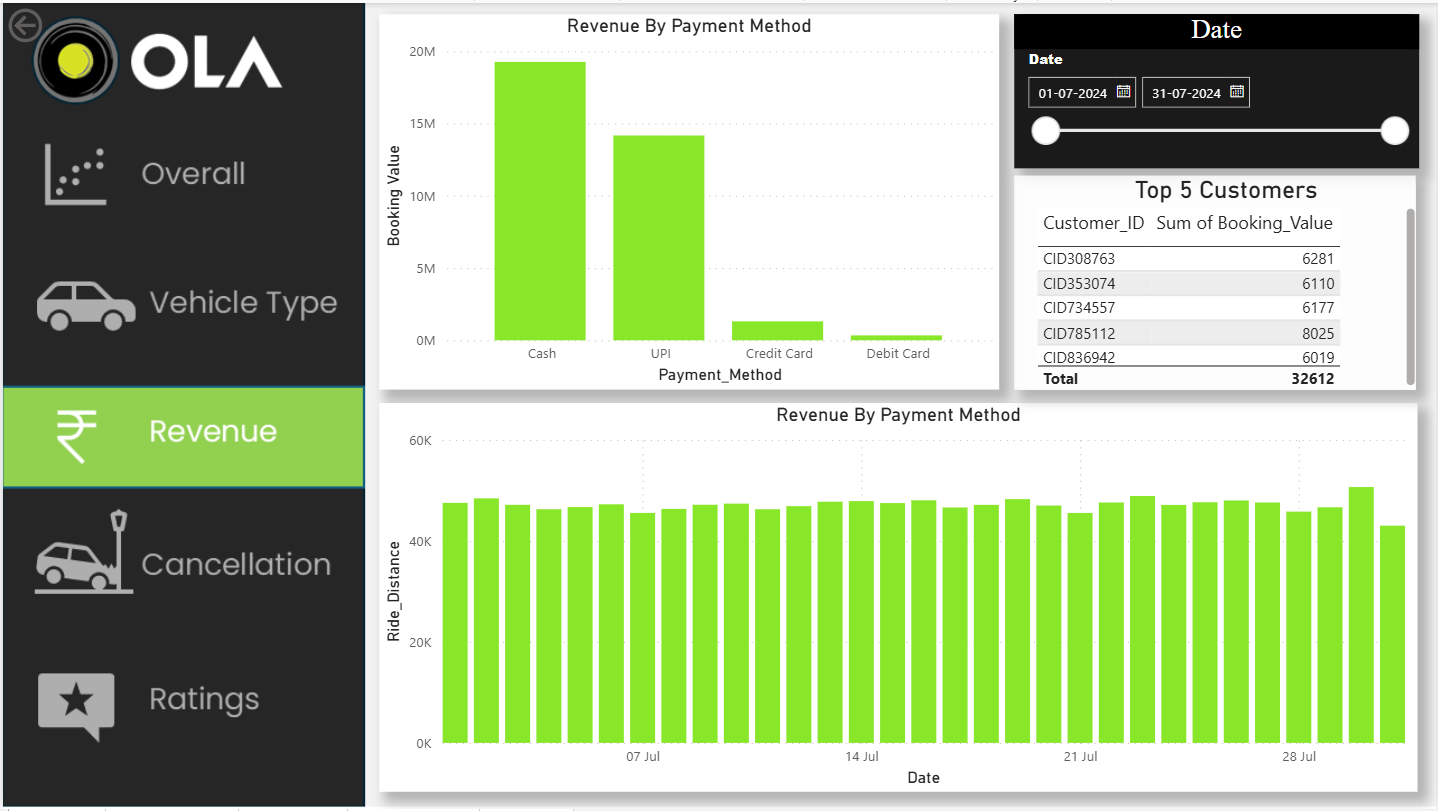

The page's visual inventory and layout, read from the dashboard file:
{"tool":"powerbi","page":{"name":"Revenue","canvas":[1280,720],"ordinal":2},"visuals":[{"type":"actionButton","box":[0,448.8,325.6,93],"z":0},{"type":"actionButton","box":[0,579.1,325.6,93],"z":1000},{"type":"actionButton","box":[0,219.8,325.6,93],"z":2000},{"type":"actionButton","box":[0,447.7,325.6,93],"z":3000},{"type":"columnChart","title":"Revenue By Payment Method","fields":{"Y":["Sum(July (2).Booking_Value)"],"Category":["July (2).Payment_Method"]},"box":[336.6,9.6,553.6,335.2],"z":4000},{"type":"columnChart","title":"Revenue By Payment Method","fields":{"Y":["Sum(July (2).Ride_Distance)"],"Category":["July (2).Date"]},"box":[336.6,357.2,927.2,347.5],"z":5000},{"type":"slicer","title":"Date","fields":{"Values":["July (2).Date"]},"box":[902.5,9.6,361.3,137.4],"z":6000},{"type":"tableEx","title":"Top 5 Customers","fields":{"Values":["July (2).Customer_ID","Sum(July (2).Booking_Value)"]},"box":[902.5,153.9,358.5,190.9],"z":7000},{"type":"actionButton","box":[0,0,100,40],"z":8000}]}

Visuals, with their boxes on the page's 1280x720 design canvas (x1, y1, x2, y2). These are canvas units, not pixel positions in the 1438x811 screenshot, which may show the page scaled, cropped or inside an application window:
actionButton: box(0, 449, 326, 542)
actionButton: box(0, 579, 326, 672)
actionButton: box(0, 220, 326, 313)
actionButton: box(0, 448, 326, 541)
"Revenue By Payment Method" columnChart: box(337, 10, 890, 345)
"Revenue By Payment Method" columnChart: box(337, 357, 1264, 705)
"Date" slicer: box(902, 10, 1264, 147)
"Top 5 Customers" tableEx: box(902, 154, 1261, 345)
actionButton: box(0, 0, 100, 40)
